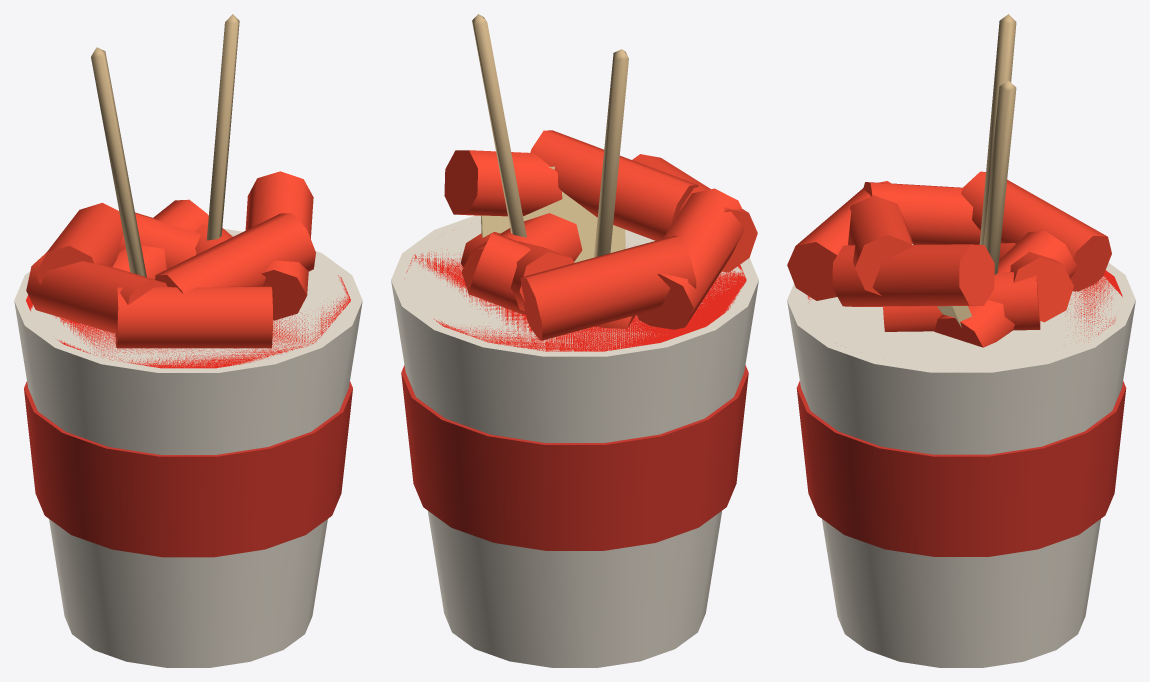
Rendered from tteok_cup.glb.
The picture shows the model from 3 angles, left to right: view 1: azimuth 30°, elevation 25°; view 2: azimuth 150°, elevation 25°; view 3: azimuth 270°, elevation 25°; orthographic projection. The views are drawn at different scales.
Parts seen in each view (by area): view 1: cup, cup_band, tteok7, tteok2, tteok4, tteok5, sauce, tteok1, pick-1, pick1, tteok6, tteok3; view 2: cup, cup_band, tteok1, tteok2, sauce, tteok4, tteok5, pick1, pick-1, tteok6, fishcake, tteok0 (+2 smaller); view 3: cup, cup_band, tteok5, tteok1, tteok4, tteok2, tteok3, tteok7, tteok0, pick1, tteok6, pick-1 (+1 smaller).
Part boxes in pixels (bbox=[...]): cup: bbox=[14, 229, 362, 667]; cup_band: bbox=[24, 381, 352, 557]; tteok7: bbox=[115, 286, 272, 348]; tteok2: bbox=[155, 213, 315, 293]; tteok4: bbox=[26, 252, 167, 333]; tteok5: bbox=[245, 171, 313, 320]; sauce: bbox=[26, 275, 350, 368]; tteok1: bbox=[36, 202, 123, 284]; pick-1: bbox=[91, 47, 146, 277]; pick1: bbox=[206, 14, 239, 240]; tteok6: bbox=[112, 199, 208, 279]; tteok3: bbox=[119, 212, 201, 269]; cup: bbox=[391, 215, 758, 667]; cup_band: bbox=[401, 365, 748, 550]; tteok1: bbox=[520, 235, 696, 340]; tteok2: bbox=[530, 130, 698, 240]; sauce: bbox=[406, 229, 746, 351]; tteok4: bbox=[637, 188, 744, 329]; tteok5: bbox=[444, 150, 562, 216]; pick1: bbox=[472, 14, 526, 237]; pick-1: bbox=[594, 49, 628, 257]; tteok6: bbox=[469, 232, 635, 329]; fishcake: bbox=[481, 166, 625, 262]; tteok0: bbox=[461, 213, 582, 295]; cup: bbox=[787, 262, 1135, 667]; cup_band: bbox=[796, 381, 1126, 556]; tteok5: bbox=[832, 244, 994, 306]; tteok1: bbox=[961, 171, 1111, 291]; tteok4: bbox=[863, 182, 980, 244]; tteok2: bbox=[848, 195, 913, 295]; tteok3: bbox=[934, 230, 1076, 347]; tteok7: bbox=[787, 181, 891, 300]; tteok0: bbox=[883, 272, 1040, 331]; pick1: bbox=[983, 80, 1016, 274]; tteok6: bbox=[999, 242, 1073, 322]; pick-1: bbox=[979, 14, 1016, 244].
Size of the model in its own units: 0.0886 by 0.162 by 0.09.
